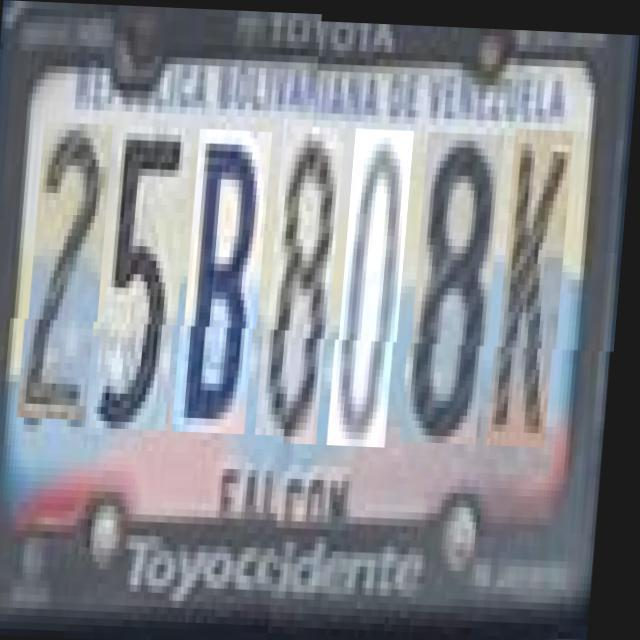2: (28, 128, 114, 426)
5: (102, 132, 194, 436)
8: (411, 128, 506, 440), (265, 123, 347, 442)
B: (182, 134, 274, 439)
K: (497, 124, 575, 442)
O: (338, 126, 416, 444)
